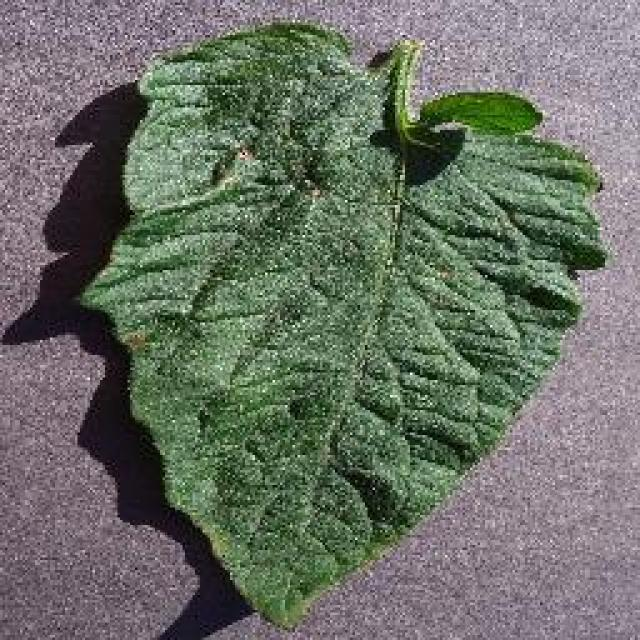Tomato___Target_Spot: (80, 22, 605, 628)
